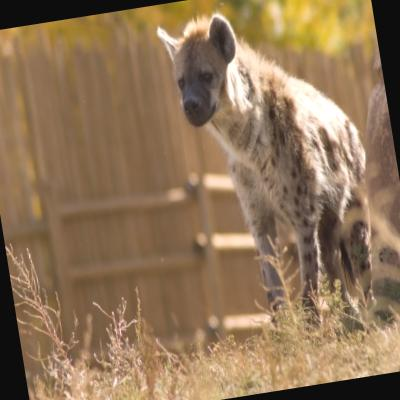hyenas: (134, 0, 400, 372)
